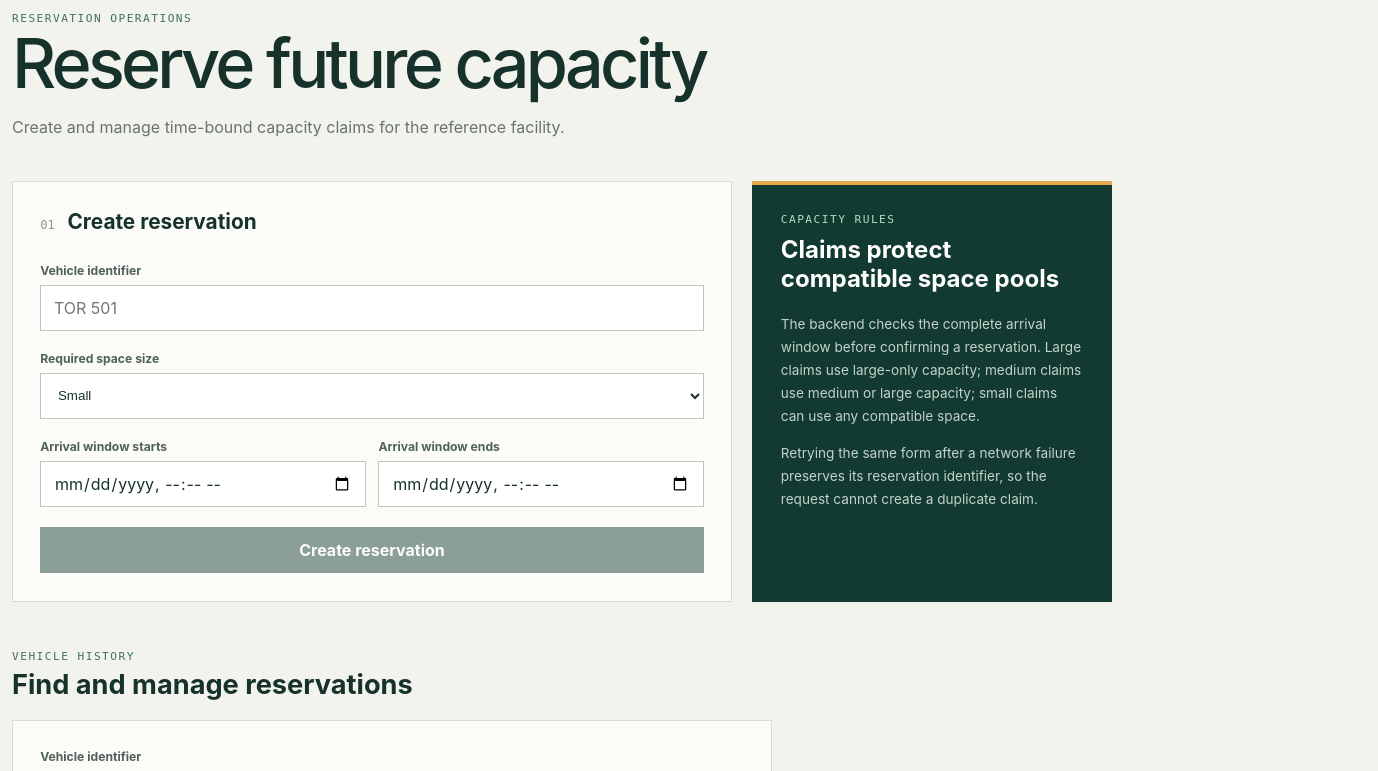
reservation operations › creates a reservation and preserves its identifier across a safe retry
Type "TOR 901" into the field labelled "Vehicle identifier" below "01" at [372, 308], box x1=40 y1=285 x2=704 y2=331
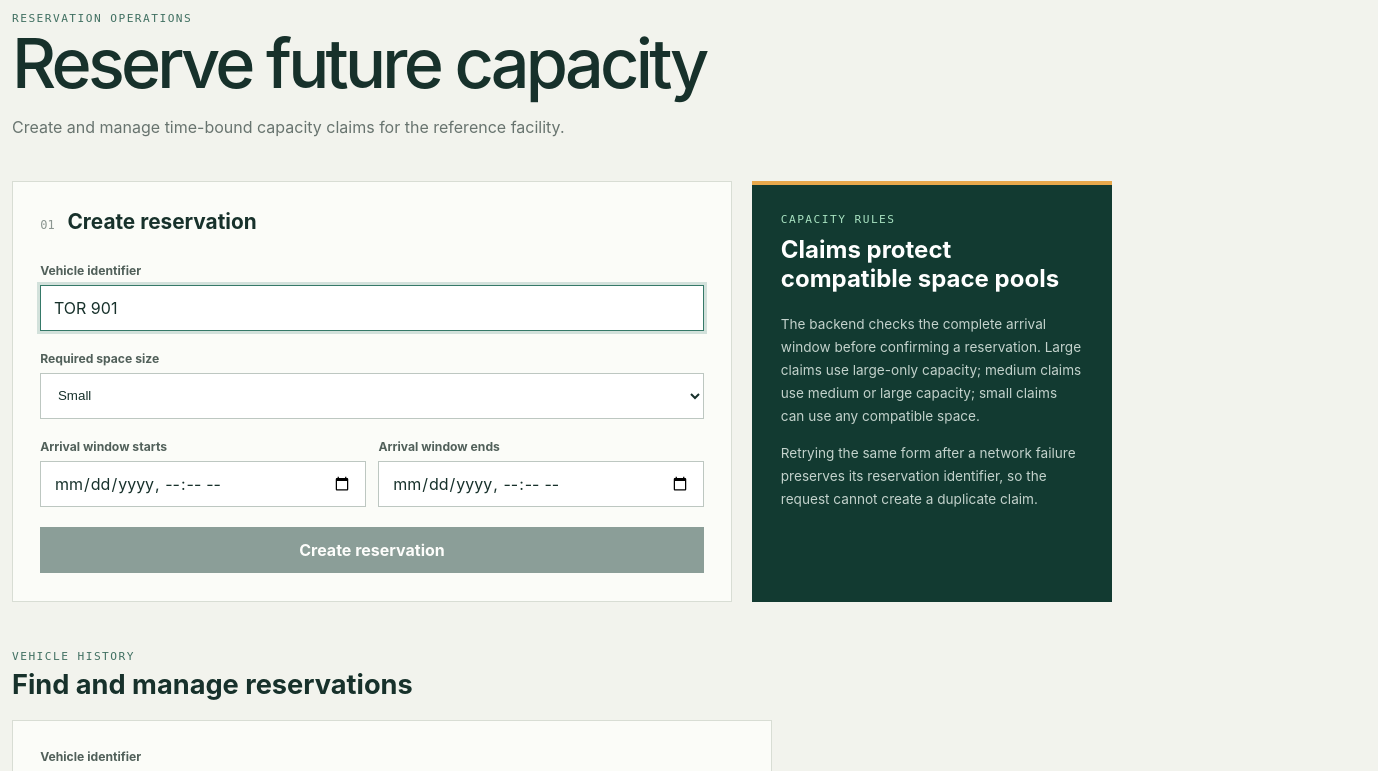
Select "Medium" in the dropdown labelled "Required space size" at [372, 396], box x1=40 y1=373 x2=704 y2=419
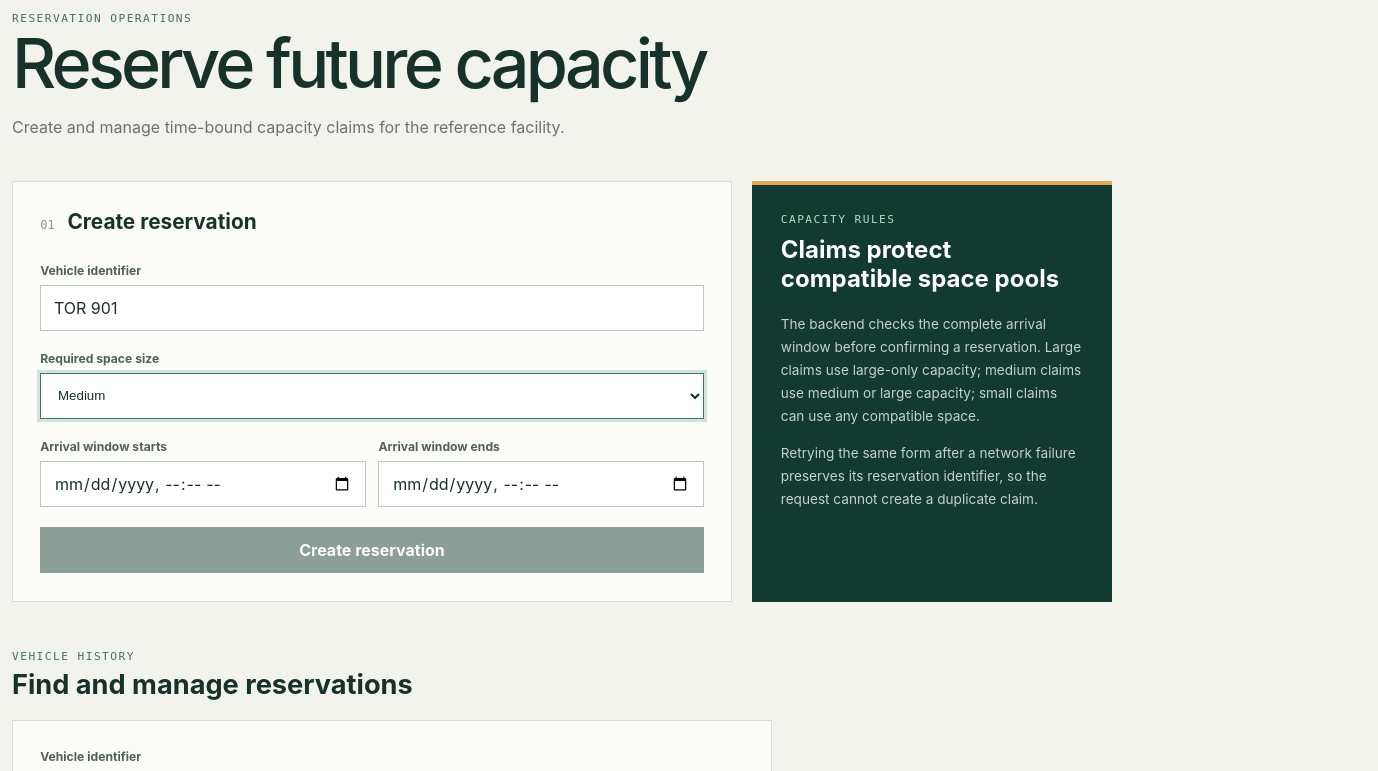
Type "2026-09-01T14:00" into the field labelled "Arrival window starts" at [203, 484], box x1=40 y1=461 x2=366 y2=508
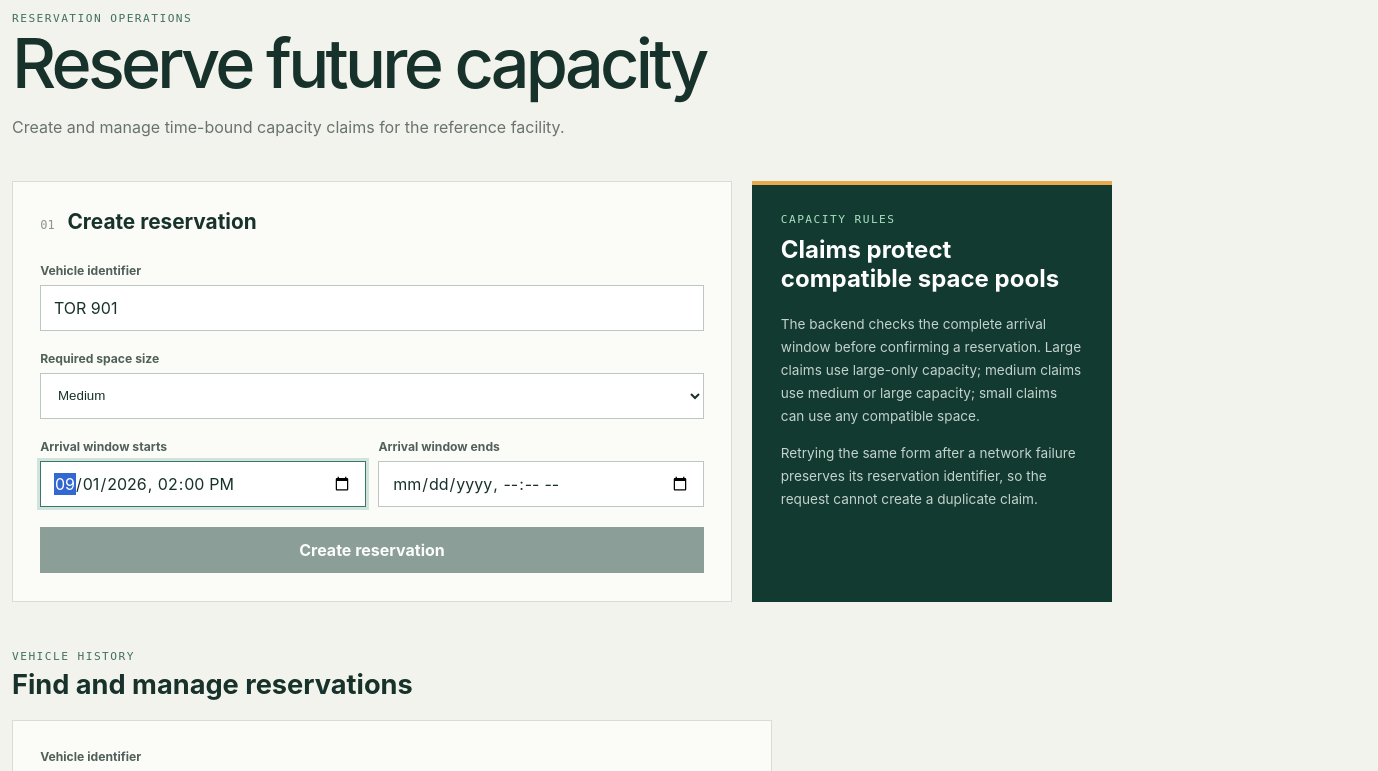
Type "2026-09-01T15:00" into the field labelled "Arrival window ends" at [541, 484], box x1=378 y1=461 x2=704 y2=508
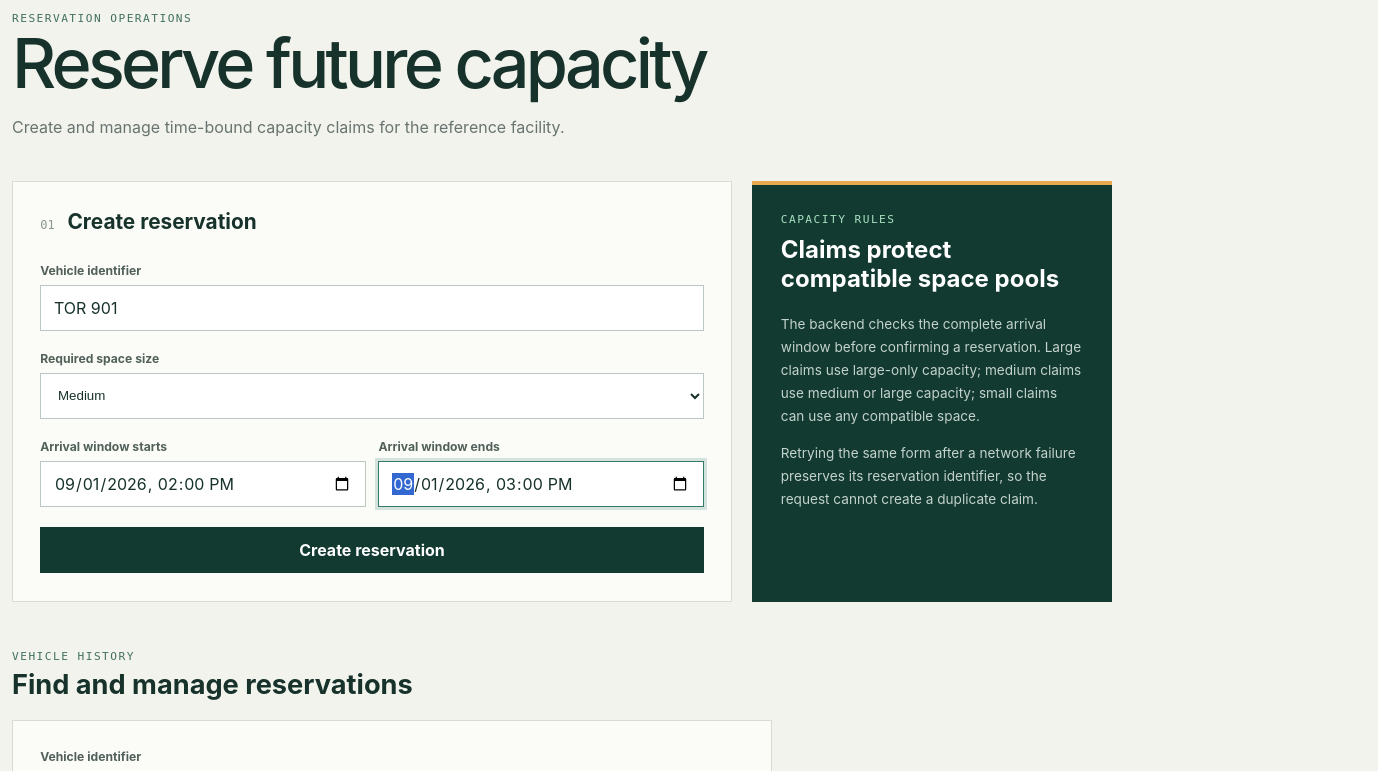
Click the button "Create reservation" at [372, 550], box x1=40 y1=528 x2=704 y2=574
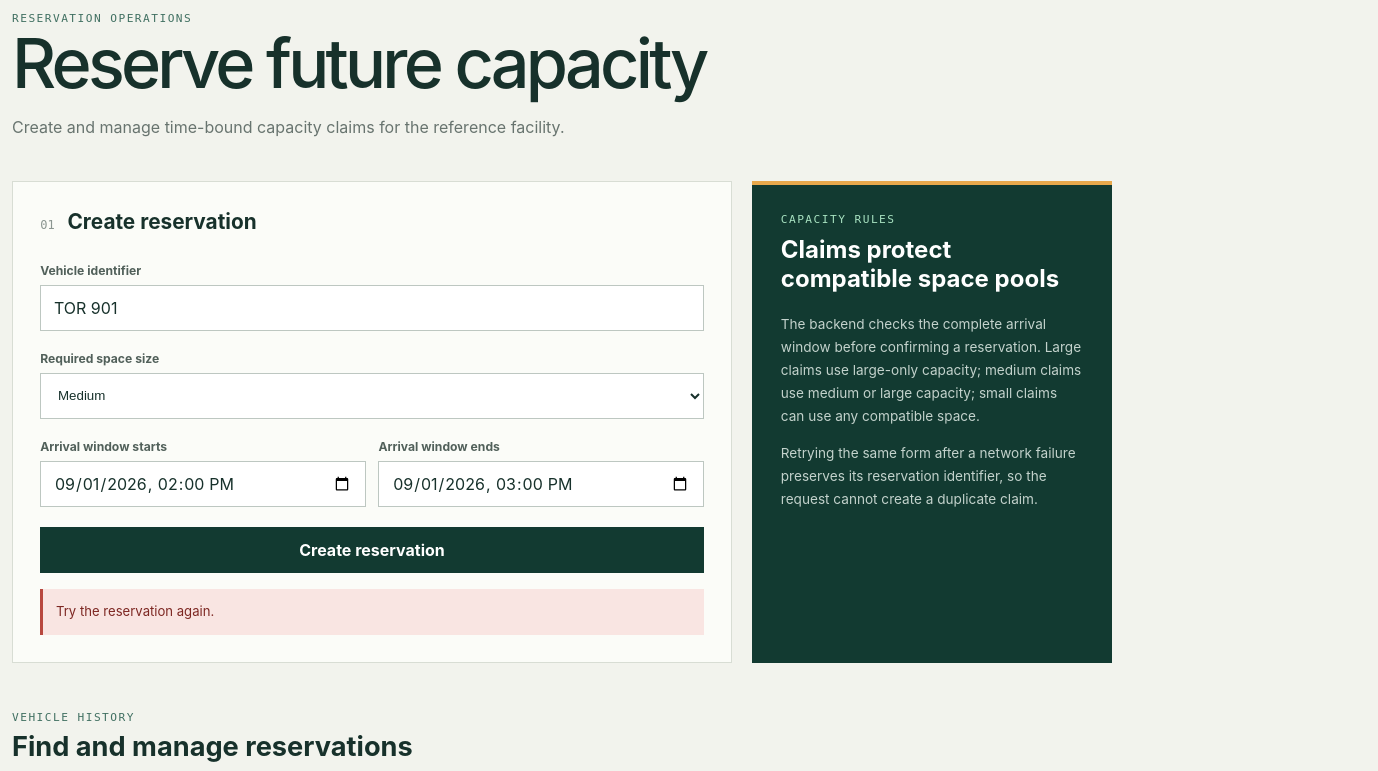
Expected: the message reads "Try the reservation again.", x1=56 y1=603 x2=214 y2=619
Click the button "Create reservation" at [372, 550], box x1=40 y1=528 x2=704 y2=574
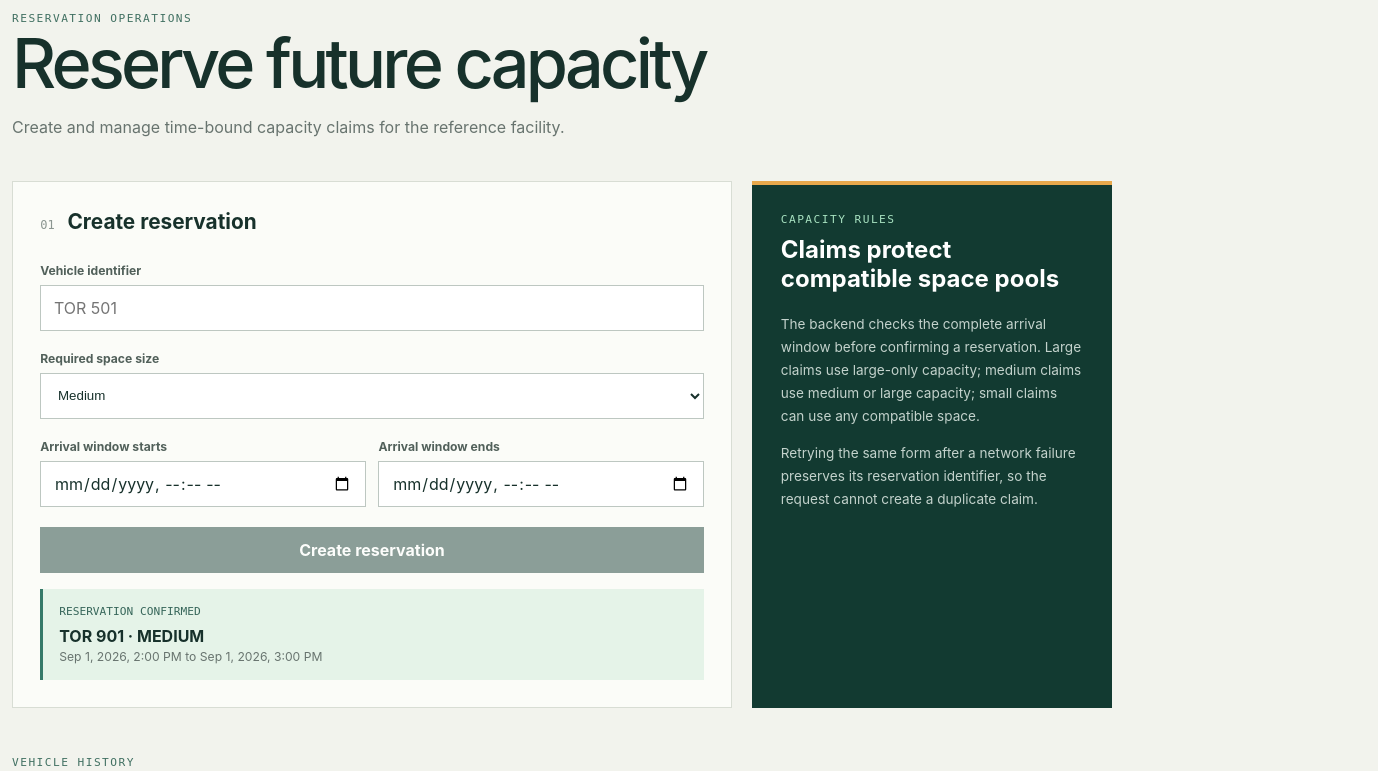
Expected: the text "Reservation confirmed" is shown, x1=59 y1=606 x2=201 y2=618
